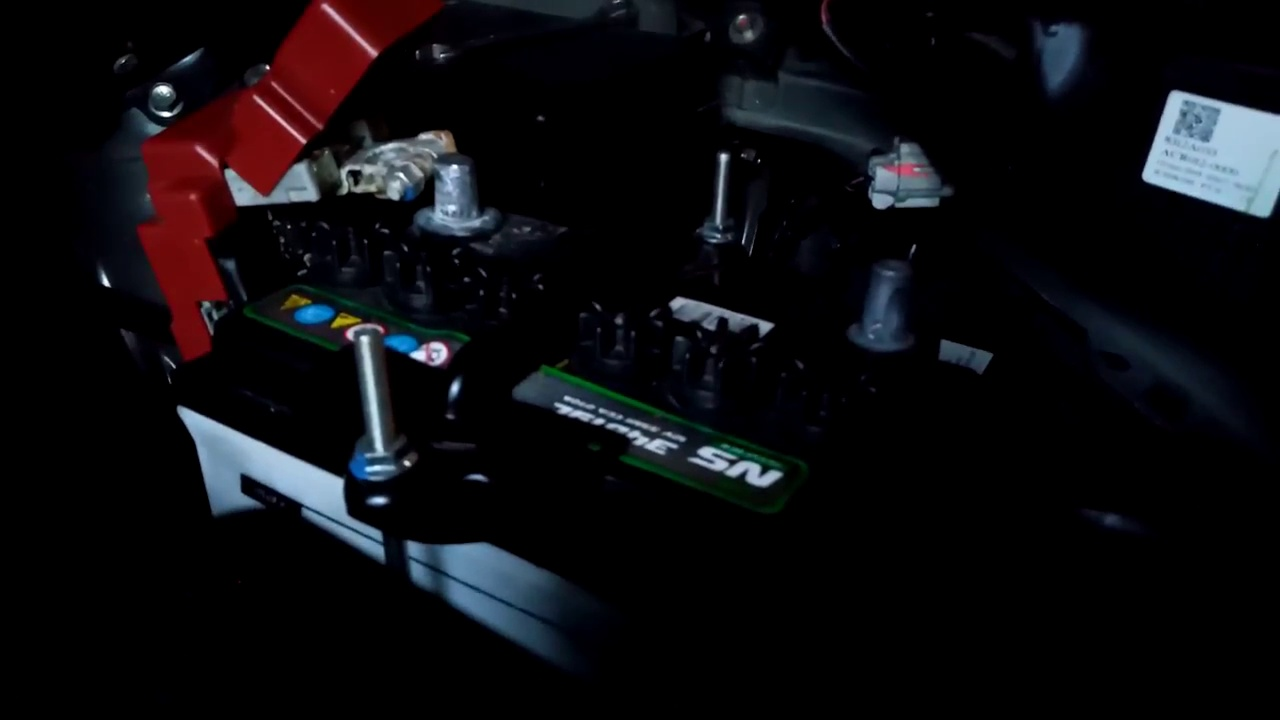battery: (175, 167, 1001, 602)
neg_disconnected: (786, 238, 981, 373)
pos_disconnected: (105, 55, 536, 296)
